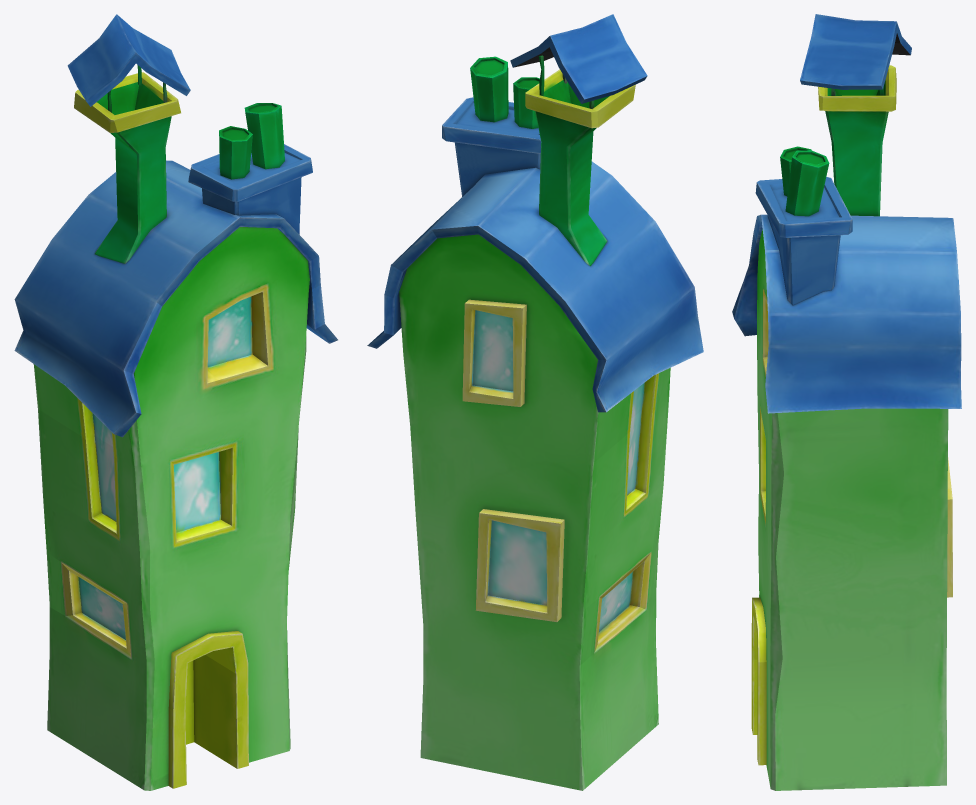
The model's file is haus02b.fbx.
3 views of the same model, side by side, from view 1: azimuth 30°, elevation 25°; view 2: azimuth 150°, elevation 25°; view 3: azimuth 270°, elevation 25° (orthographic).
Visible parts, largest first — view 1: haus02; view 2: haus02; view 3: haus02.
Part boxes in pixels (x1,y1,x2,y2): haus02: [14, 14, 337, 790]; haus02: [367, 14, 703, 790]; haus02: [732, 14, 961, 790].
Size of the model in its own units: 2.09 by 6.08 by 1.77.
